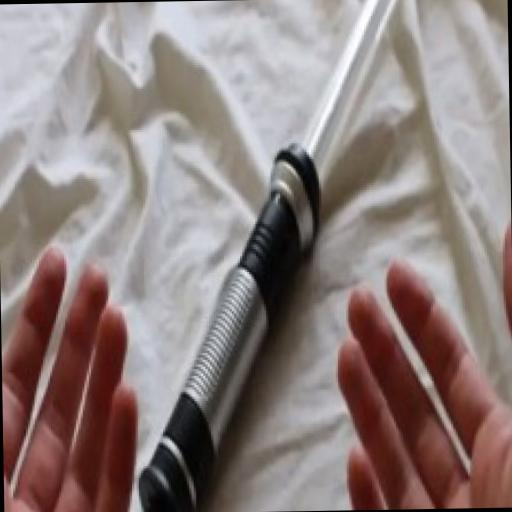lightsaber: (114, 0, 407, 512)
